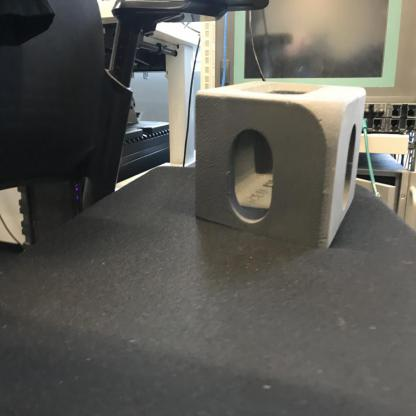CornerCasting: (193, 76, 370, 253)
